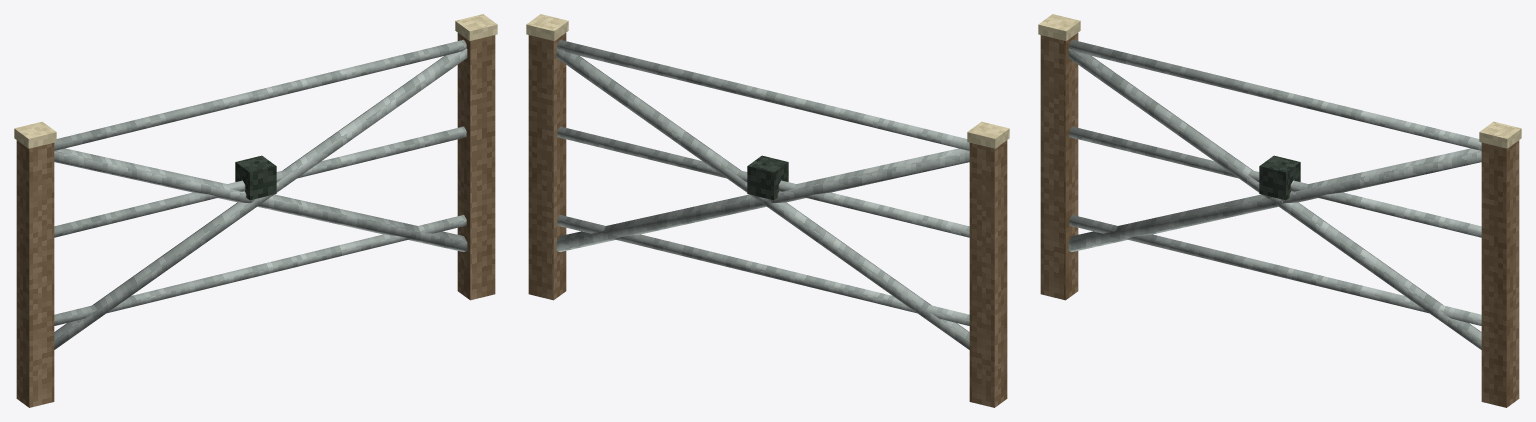
File: fence_gate.glb
The picture shows the model from 3 angles, left to right: view 1: azimuth 30°, elevation 25°; view 2: azimuth 150°, elevation 25°; view 3: azimuth 330°, elevation 25°; orthographic projection.
Visible parts, largest first — view 1: parcel_fence_gate metal, parcel_fence_gate wood, parcel_fence_gate cream, parcel_fence_gate dark; view 2: parcel_fence_gate metal, parcel_fence_gate wood, parcel_fence_gate cream, parcel_fence_gate dark; view 3: parcel_fence_gate metal, parcel_fence_gate wood, parcel_fence_gate cream, parcel_fence_gate dark.
Boxes of the visible parts, box(x1,y1,x2,y2) form: parcel_fence_gate metal: box(54, 39, 467, 349); parcel_fence_gate wood: box(16, 33, 495, 407); parcel_fence_gate cream: box(14, 14, 497, 148); parcel_fence_gate dark: box(235, 155, 276, 200); parcel_fence_gate metal: box(556, 39, 969, 349); parcel_fence_gate wood: box(528, 33, 1007, 407); parcel_fence_gate cream: box(526, 14, 1009, 148); parcel_fence_gate dark: box(747, 155, 788, 200); parcel_fence_gate metal: box(1068, 39, 1481, 349); parcel_fence_gate wood: box(1040, 33, 1519, 407); parcel_fence_gate cream: box(1038, 14, 1521, 148); parcel_fence_gate dark: box(1259, 155, 1300, 200).
Size of what is drawn, in the model's own units: 3 by 1.65 by 0.16.
4 materials, 4 textured.
